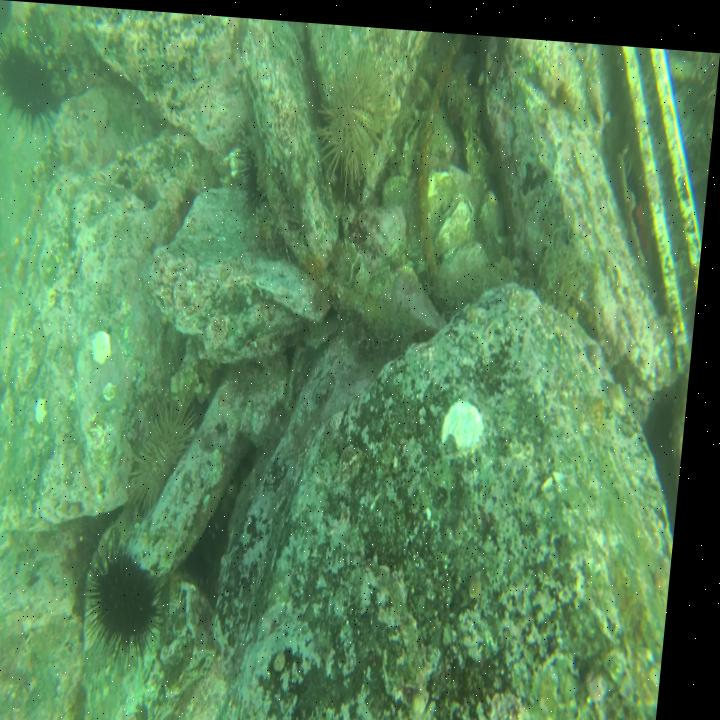echinus: (316, 53, 391, 188), (140, 383, 205, 513), (96, 546, 174, 651), (0, 37, 64, 126)
